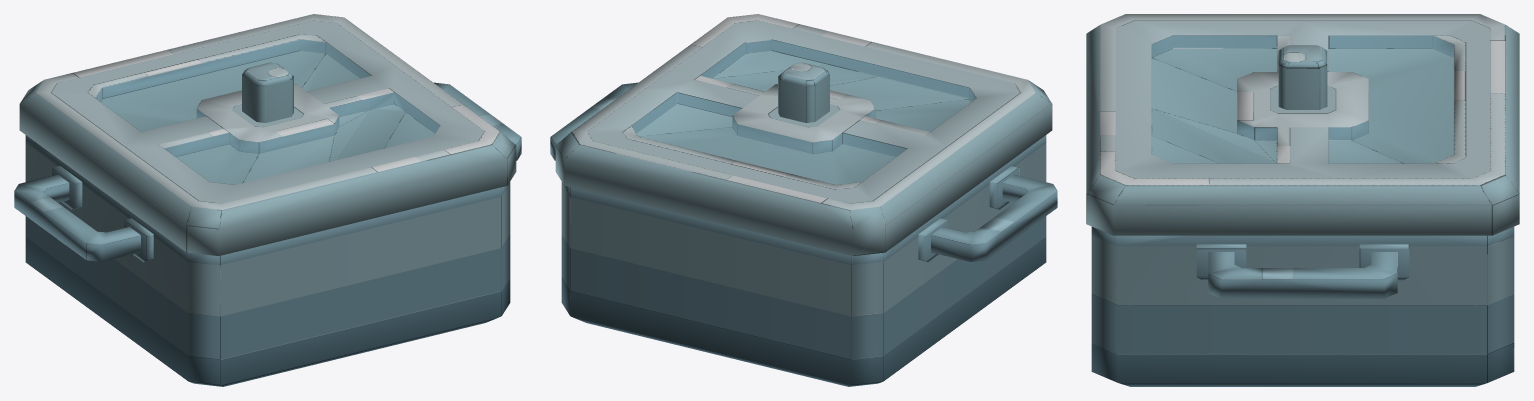
File: BC_cauldron03_fix.fbx
The picture shows the model from 3 angles, left to right: view 1: azimuth 30°, elevation 25°; view 2: azimuth 150°, elevation 25°; view 3: azimuth 270°, elevation 25°; orthographic projection. The views are drawn at different scales.
Parts seen in each view (by area): view 1: model03 1, model03; view 2: model03 1, model03; view 3: model03 1, model03.
Part boxes in pixels (bbox=[...]): model03 1: bbox=[19, 14, 516, 255]; model03: bbox=[14, 82, 521, 386]; model03 1: bbox=[555, 14, 1052, 255]; model03: bbox=[550, 82, 1057, 386]; model03 1: bbox=[1086, 14, 1519, 235]; model03: bbox=[1091, 227, 1514, 386].
Size of the model in its own units: 5.41 by 2.61 by 4.1.
1 material, 1 textured.
